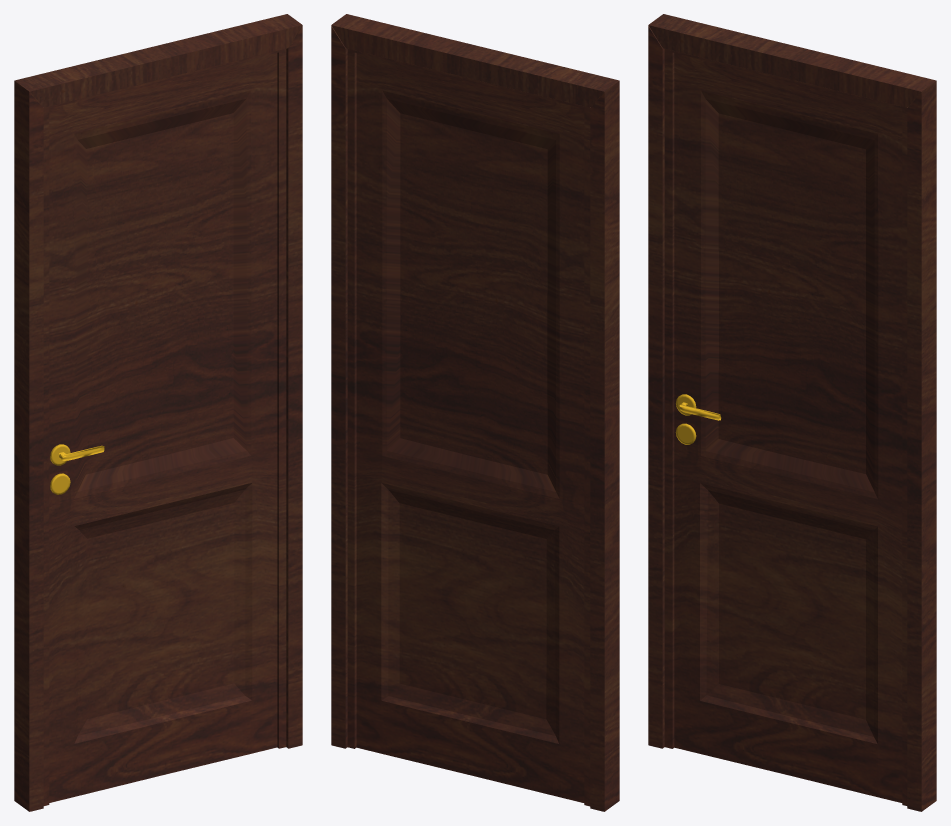
Rendered from PUERTA25_SIENA.glb.
The picture shows the model from 3 angles, left to right: view 1: azimuth 30°, elevation 25°; view 2: azimuth 150°, elevation 25°; view 3: azimuth 330°, elevation 25°; orthographic projection.
Parts seen in each view (by area): view 1: Puerta25_SIENA, Puerta25_Marco, Puerta25_Cerradura; view 2: Puerta25_SIENA, Puerta25_Marco; view 3: Puerta25_SIENA, Puerta25_Marco, Puerta25_Cerradura.
Boxes of the visible parts, x1,y1,x2,y2 form: Puerta25_SIENA: (43,49,286,805); Puerta25_Marco: (14,14,302,811); Puerta25_Cerradura: (50,444,104,494); Puerta25_SIENA: (347,49,590,806); Puerta25_Marco: (331,14,619,811); Puerta25_SIENA: (664,49,907,805); Puerta25_Marco: (648,14,936,811); Puerta25_Cerradura: (675,394,721,444).
Size of the model in its own units: 769 by 1936 by 85.
4 materials, 3 textured.
